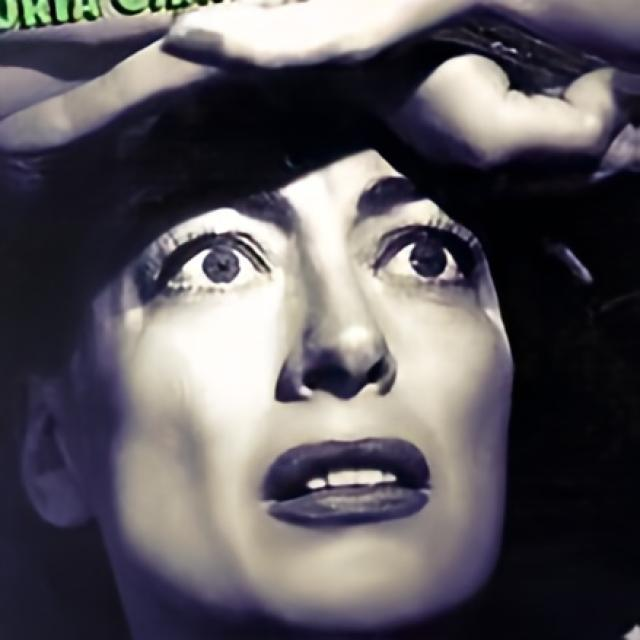fear: (69, 143, 516, 640)
